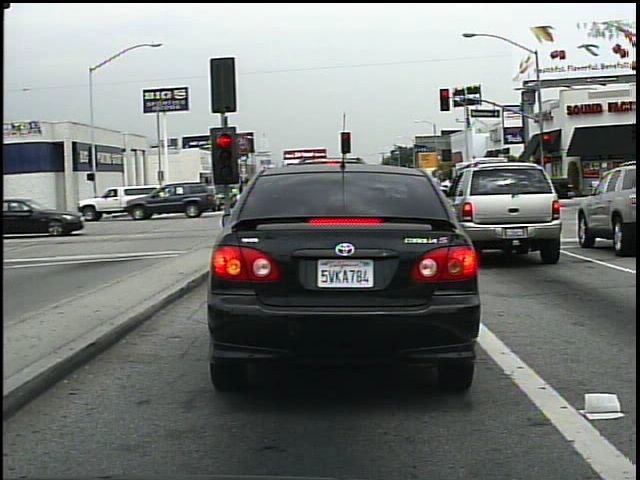person: (171, 177, 193, 216)
